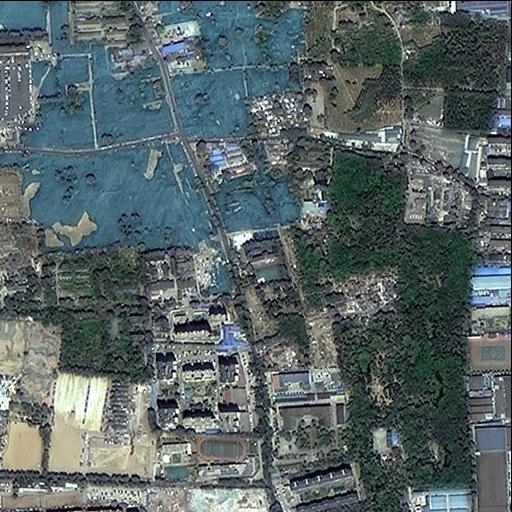school: (190, 431, 262, 485), (228, 239, 294, 287), (465, 306, 512, 366)
